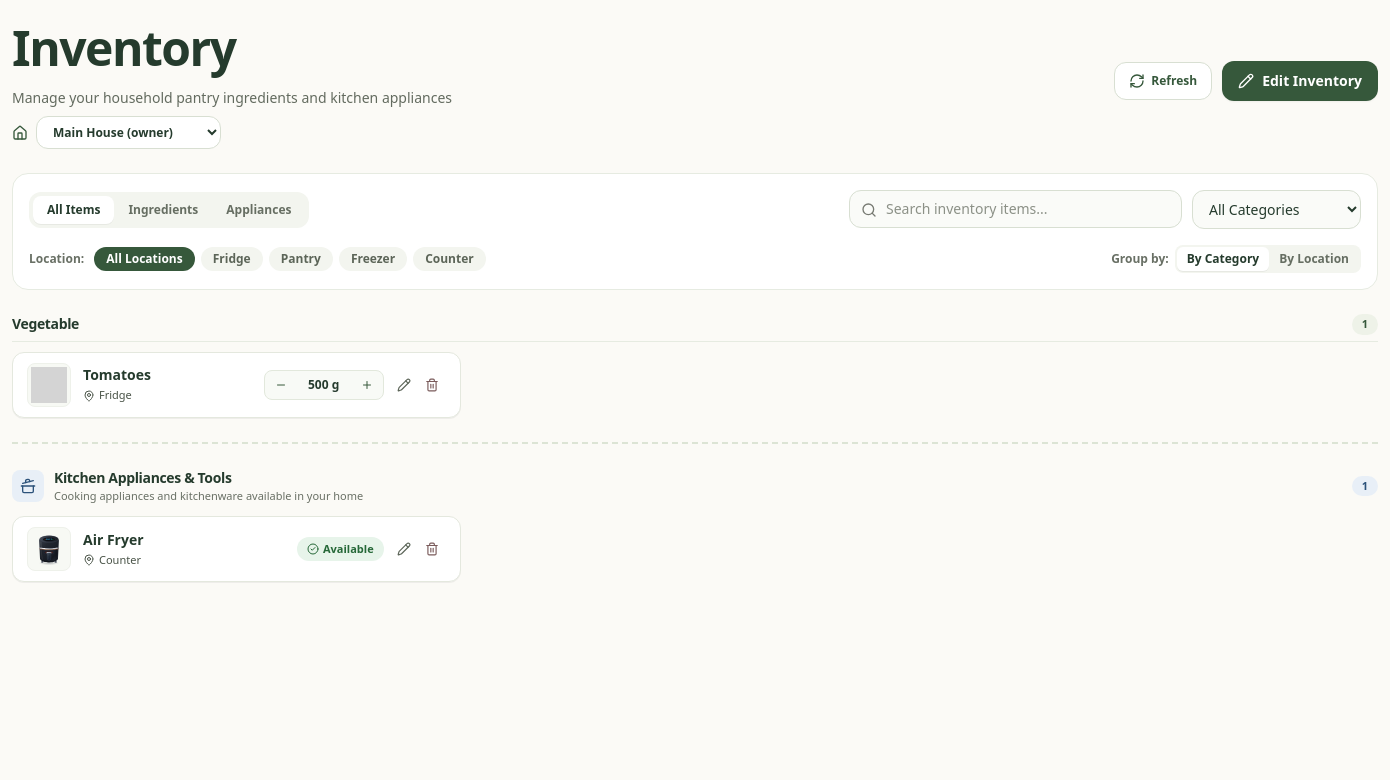
Test: InventoryPage UI and API integration › allows switching between multiple households and reloads inventory
Expected: the heading "Tomatoes" is shown, x1=83 y1=365 x2=151 y2=384
Expected: the text "Milk" is not shown
Select "Summer Flat (member)" in the dropdown named "Select household" at (128, 132), box x1=36 y1=116 x2=221 y2=149
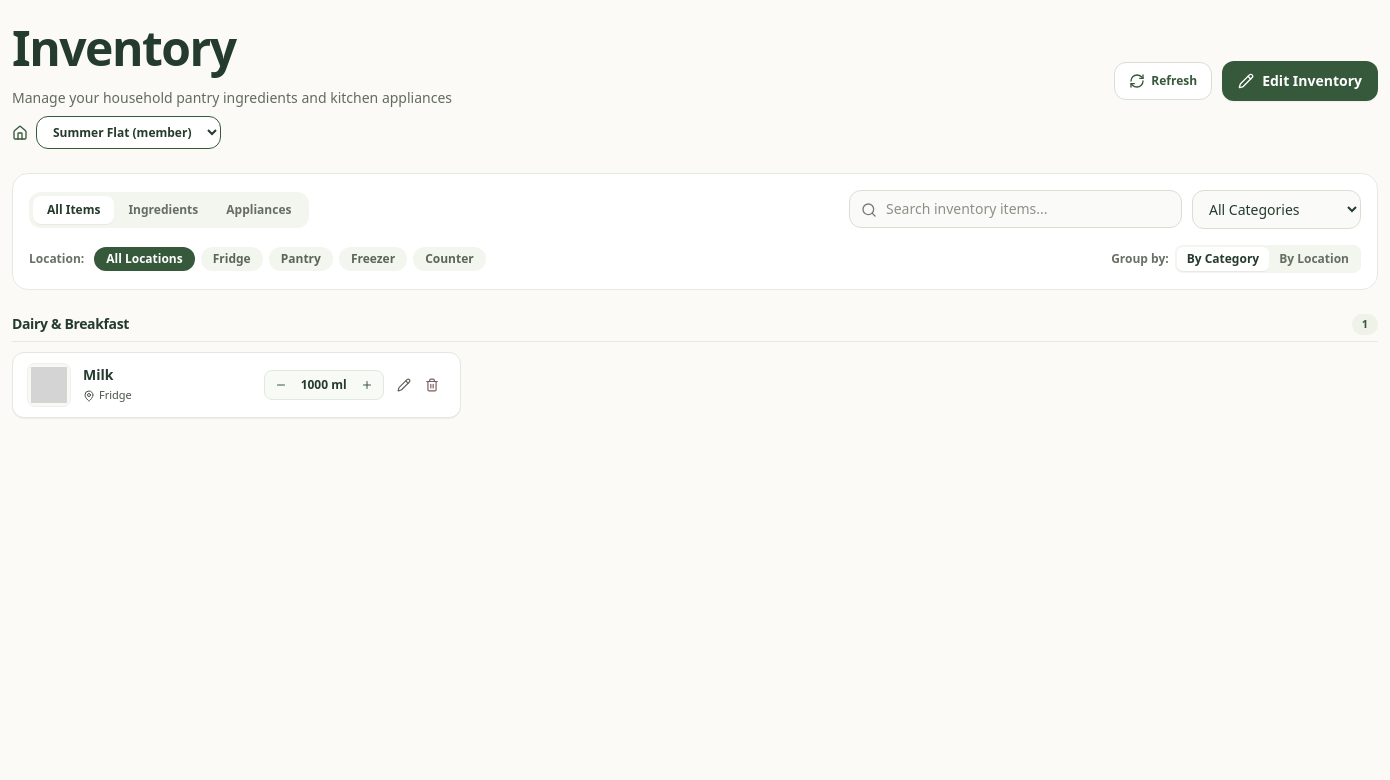
Result: the heading "Milk" is shown at x1=83 y1=365 x2=113 y2=384
Result: the heading "Tomatoes" is gone
